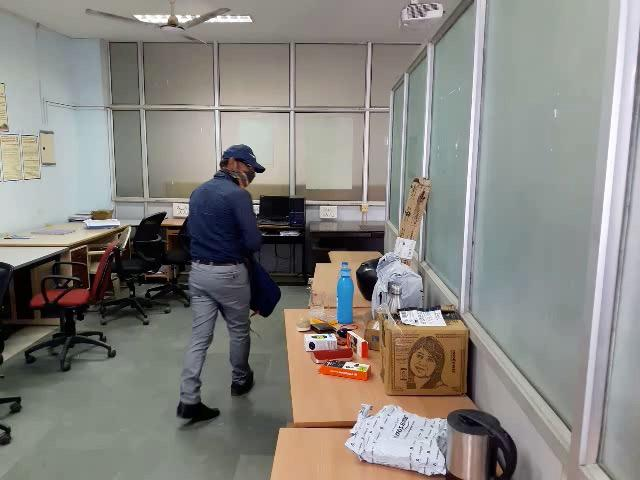Normal: (6, 8, 442, 480)
shoplifting: (205, 217, 308, 306)
